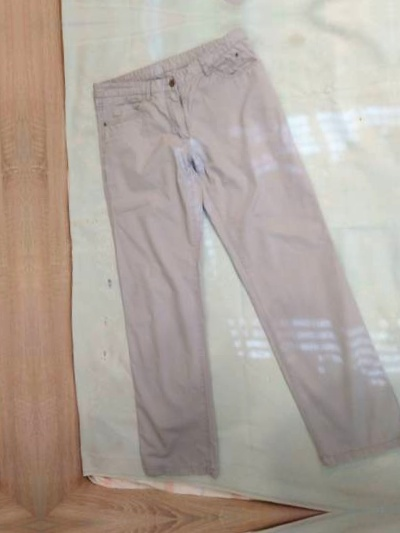Pants: (74, 21, 396, 503), (51, 0, 374, 13), (97, 530, 400, 533)
